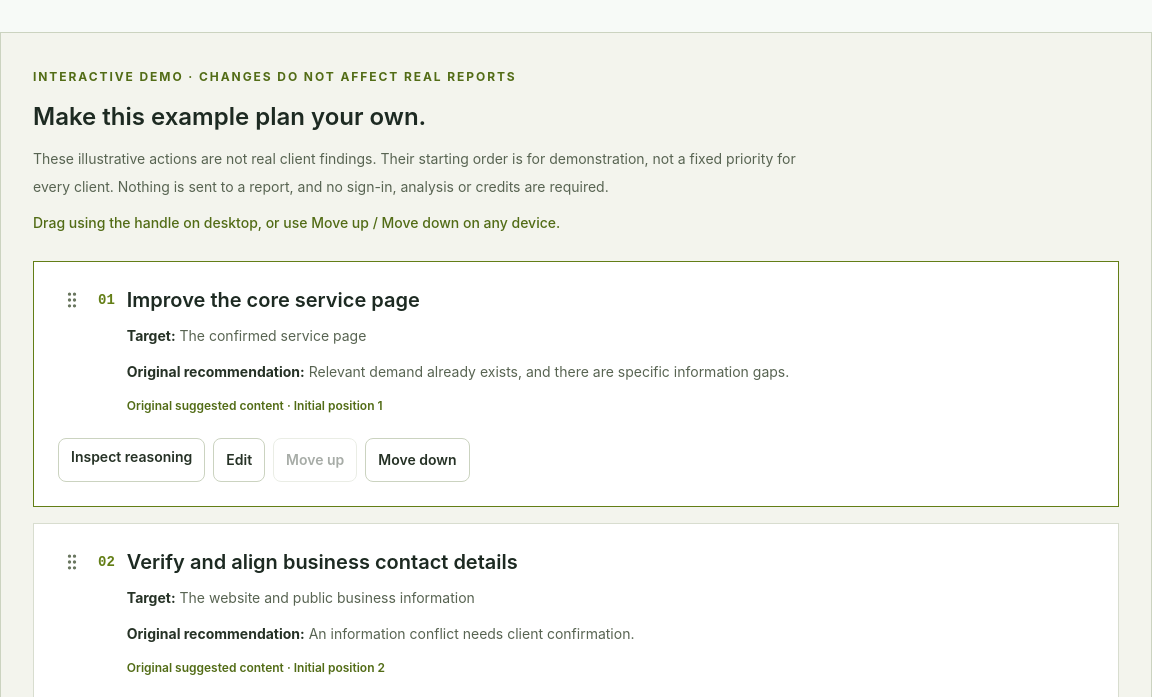
Scenario: isolated action plan demo › does not label owner edits as a verified new scope
Click the button "Edit" below "01" at (239, 460), box [213, 438, 265, 482]
(page scrolled)
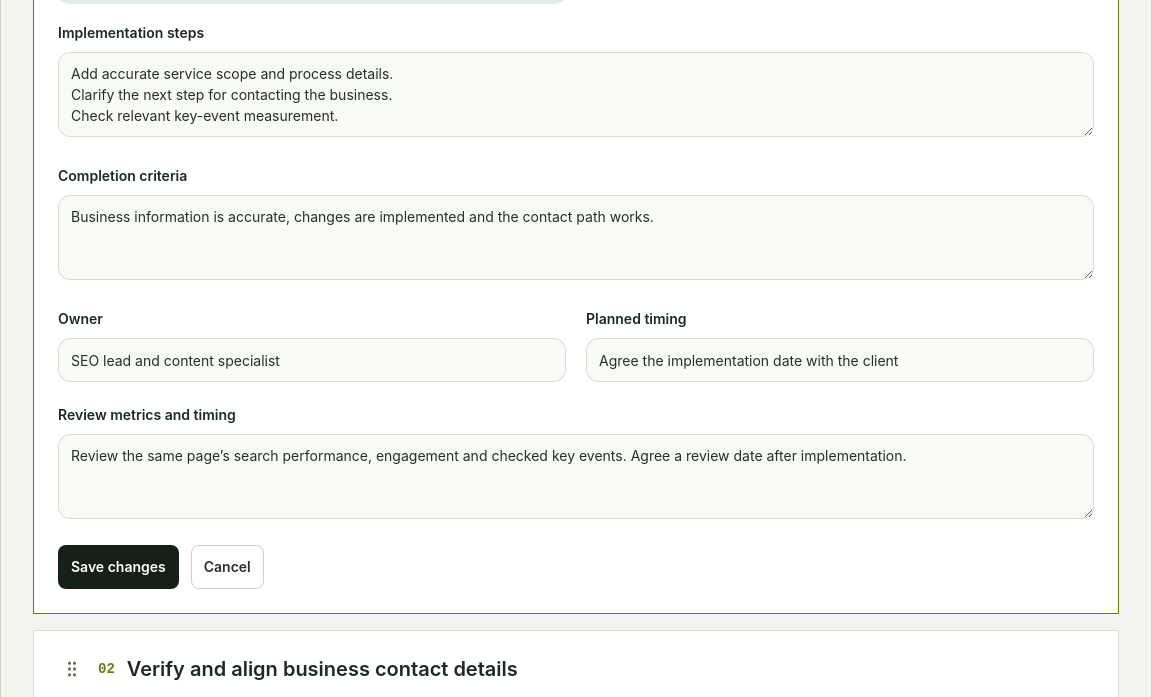
Replace the text in the field labelled "Owner" with "Agency lead" at (312, 360), box [58, 338, 566, 382]
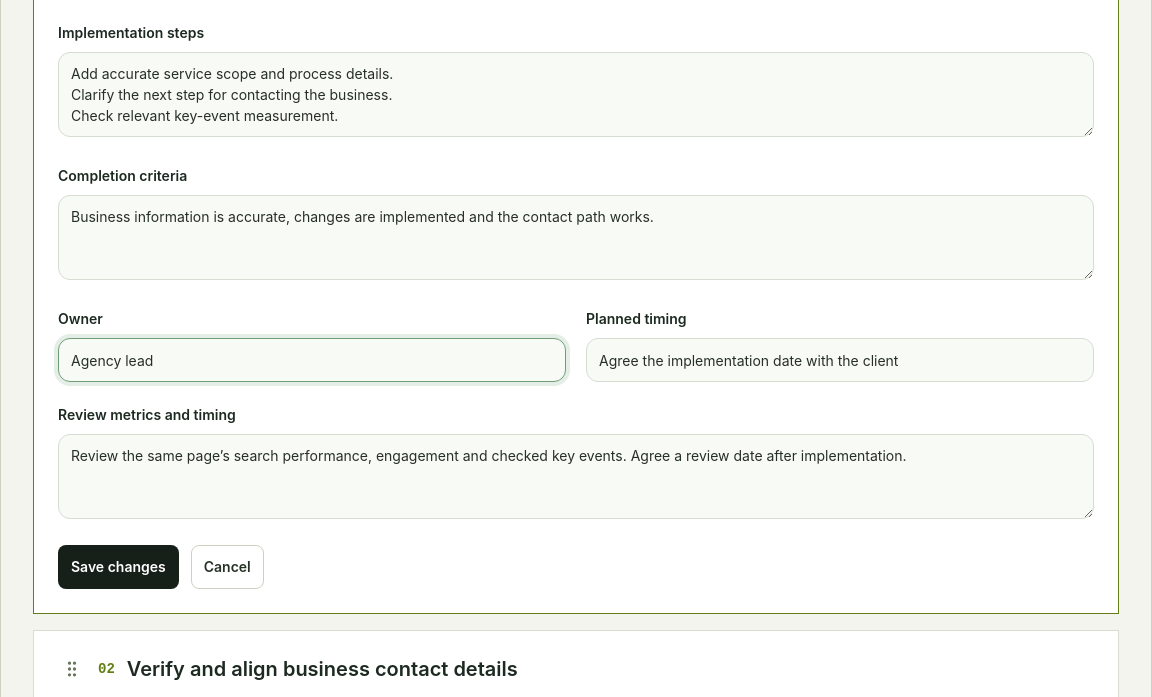
Click the button "Save changes" at (118, 567), box [58, 545, 179, 589]
(page scrolled)
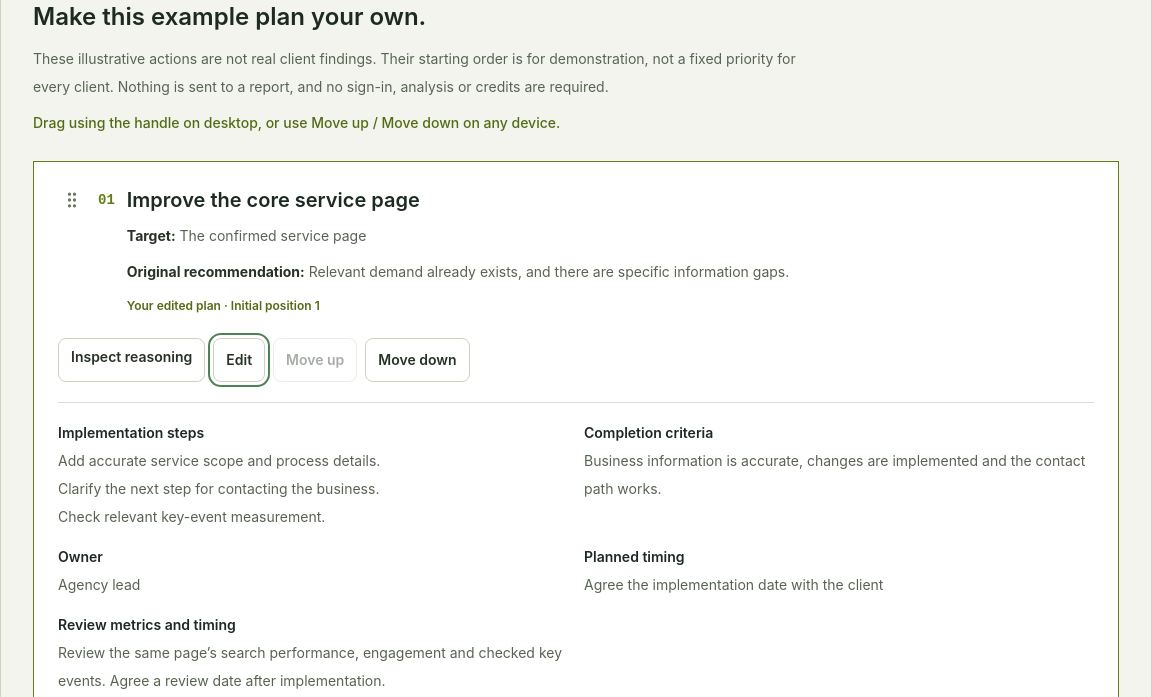
Expected: the text "Agency lead" is shown, [58, 576, 140, 593]
